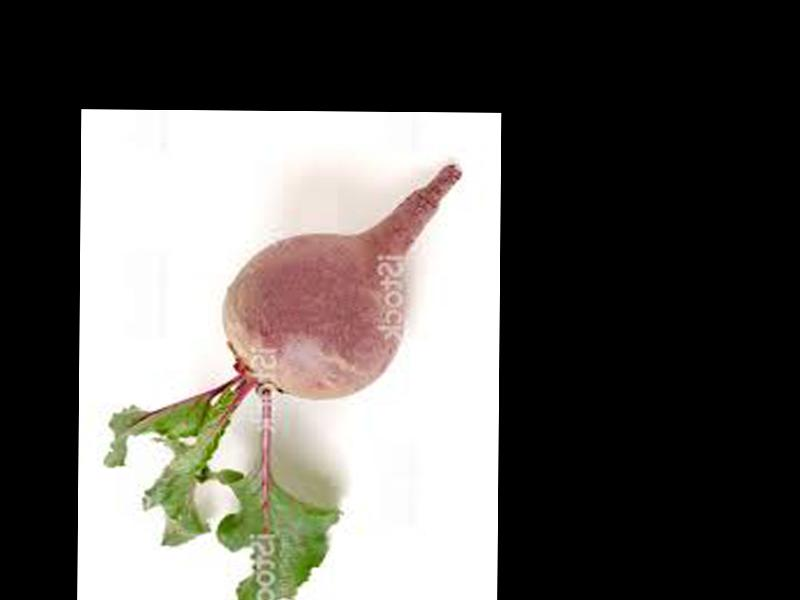Beet: (102, 162, 459, 600)
